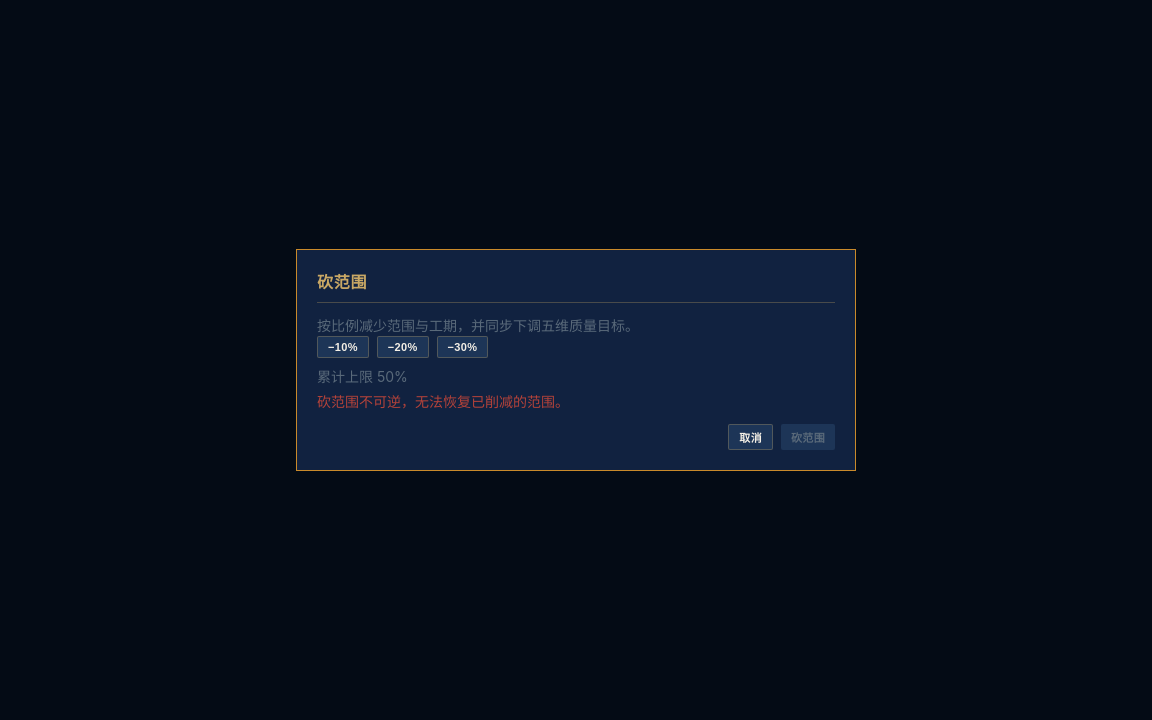
DIALOG-DESCOPE（DESIGN-C-01 §3.2 / V20~V22） › 选择档位后展示实时预览、累计值与不可逆警示；二次确认后回调
Later steps or results of the test are not shown.
Expected: the dialog shows "砍范围不可逆", [317,393,569,410]
What coordinates should you click on to do the following:
click the button "−20%"
I would click on:
 (403, 347)
Its box is [377,336,429,358].
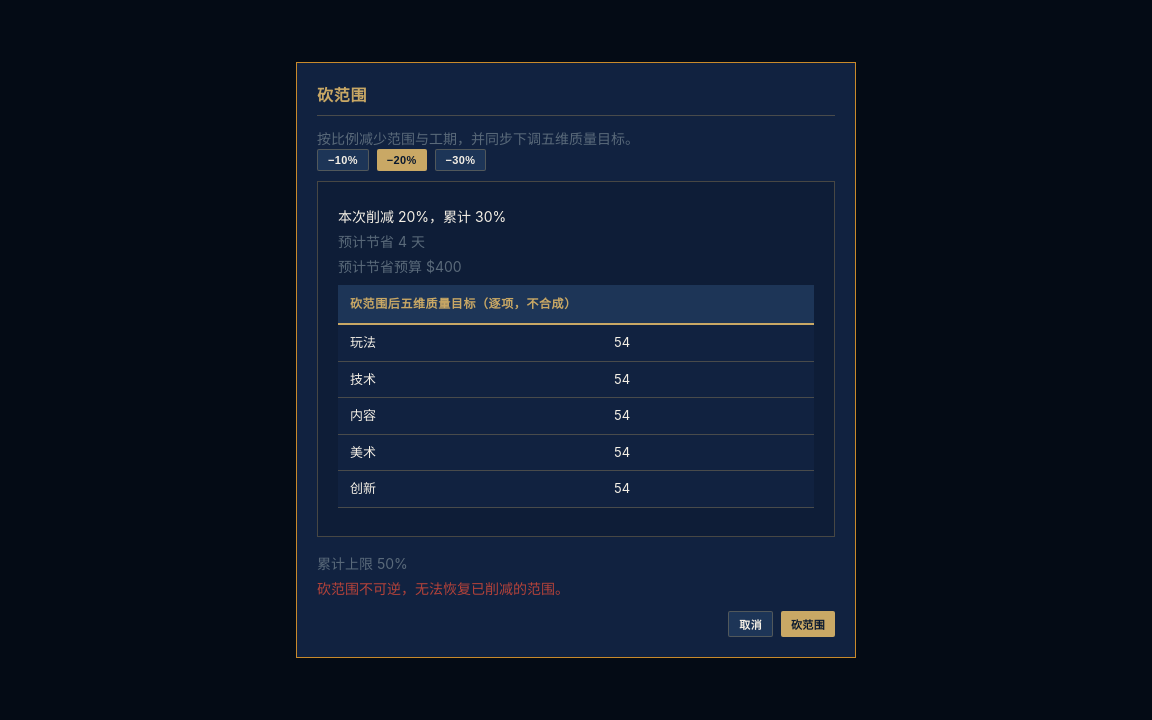
Now the dialog shows "本次削减 20%，累计 30%", box [338,208,506,225]
Now the dialog shows "预计节省", box [338,233,425,250]
Now the dialog shows "砍范围后五维质量目标（逐项，不合成）", box [350,296,577,311]
